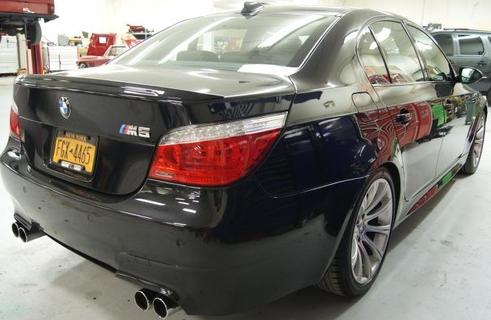back_view: (2, 71, 303, 317)
backlight: (142, 107, 297, 192)
side_glass: (353, 18, 459, 90)
